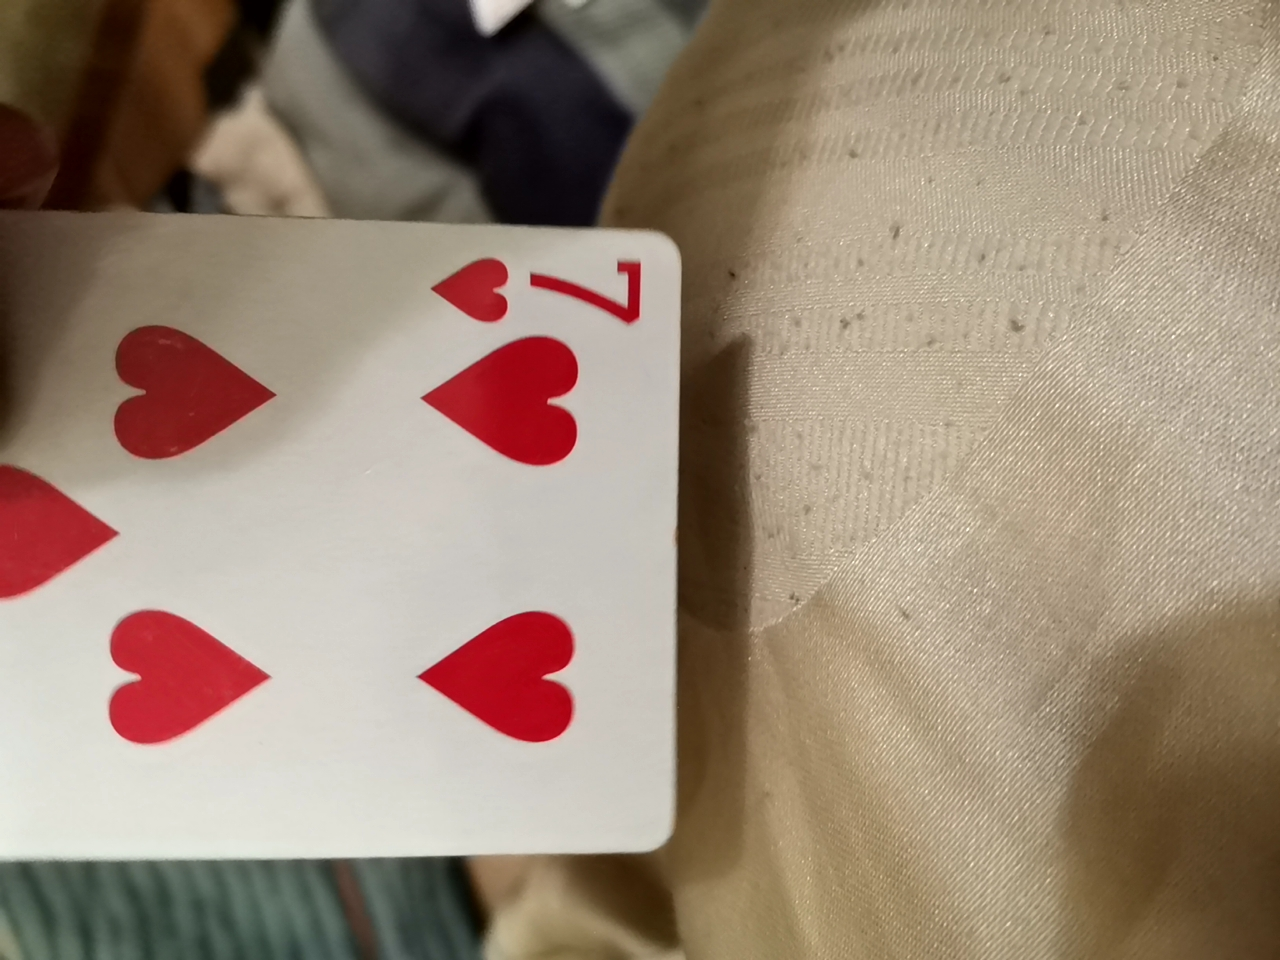hx 7: (1, 186, 690, 887)
